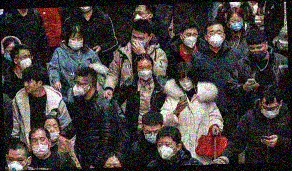mask_weared_incorrect: (44, 122, 60, 142)
with_mask: (155, 139, 177, 161), (29, 135, 50, 157), (207, 28, 225, 48), (248, 44, 268, 62), (261, 102, 281, 120), (143, 127, 163, 144), (136, 63, 154, 81), (182, 30, 199, 49), (7, 155, 28, 170), (130, 33, 149, 49), (178, 74, 195, 91), (67, 35, 85, 51), (71, 79, 86, 97), (228, 17, 245, 32), (19, 52, 33, 70), (132, 9, 149, 22), (3, 47, 13, 62)
without_mask: (22, 78, 37, 94)
